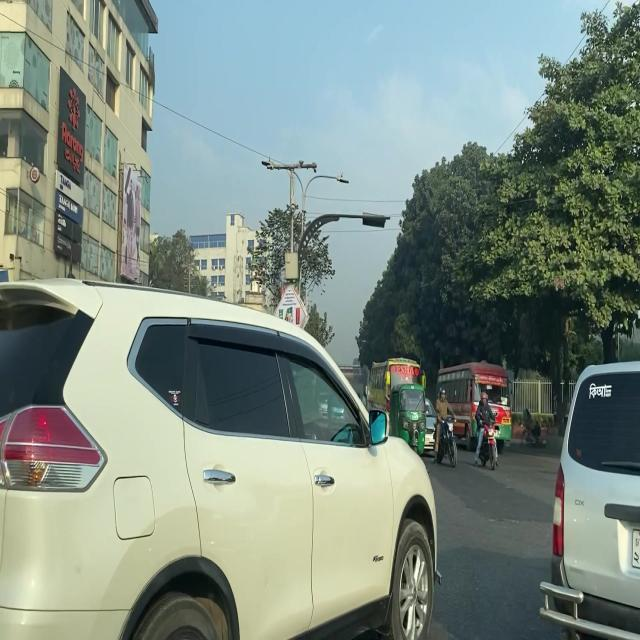car: (0, 273, 444, 640), (538, 357, 640, 640)
motorbike: (432, 407, 460, 469), (473, 410, 501, 472)
